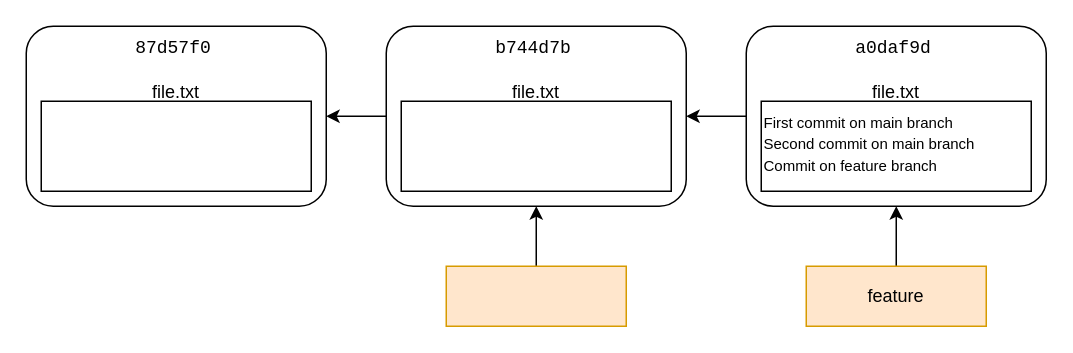
Some shapes in this 1073 by 353 pixel diagram are drawn without their labels. The centre of each missing label's shape, as x and y in pixels:
First commit on main branch: point 175,145
First commit on main branch Second commit on main branch: point 535,145
main: point 535,295
